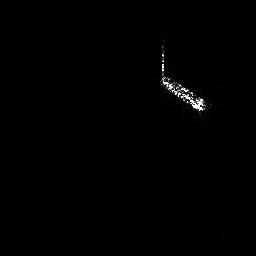ship: (157, 42, 210, 114)
